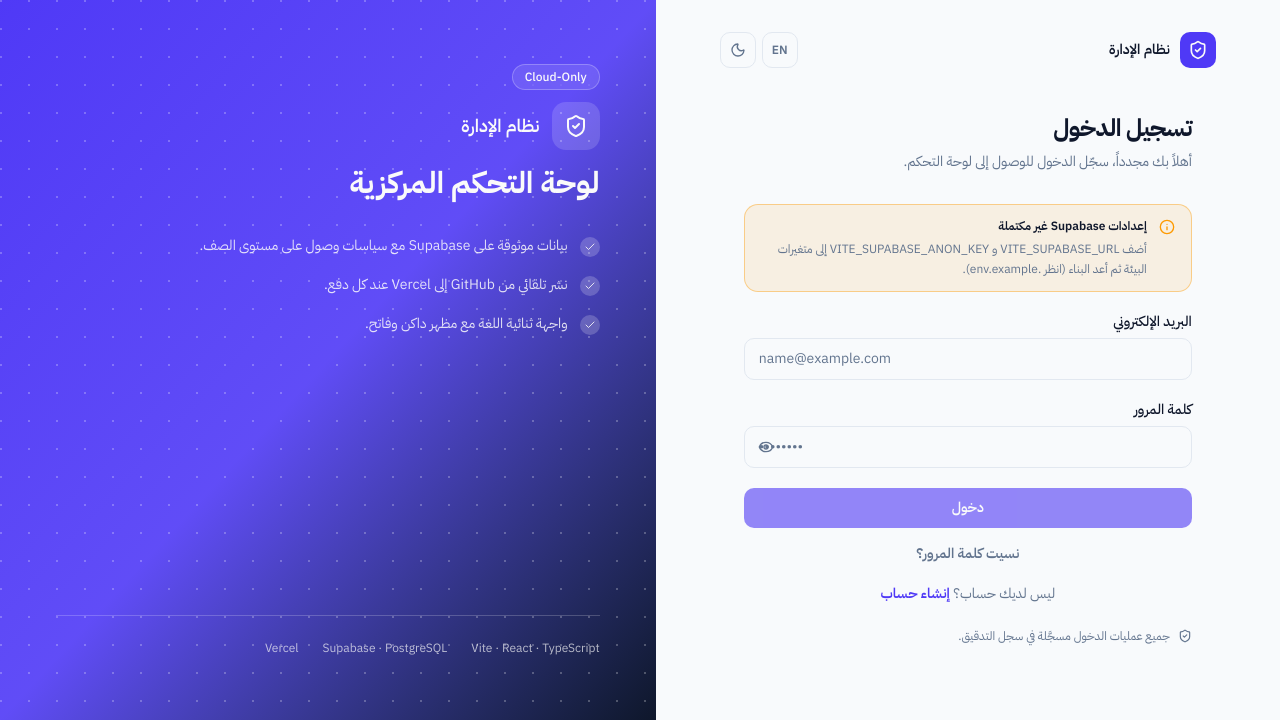
Test: Login — forgot password (manual approval request) › validates the address locally before touching Supabase
Click the button "نسيت كلمة المرور؟". click: (968, 554)
box: [916, 544, 1019, 564]
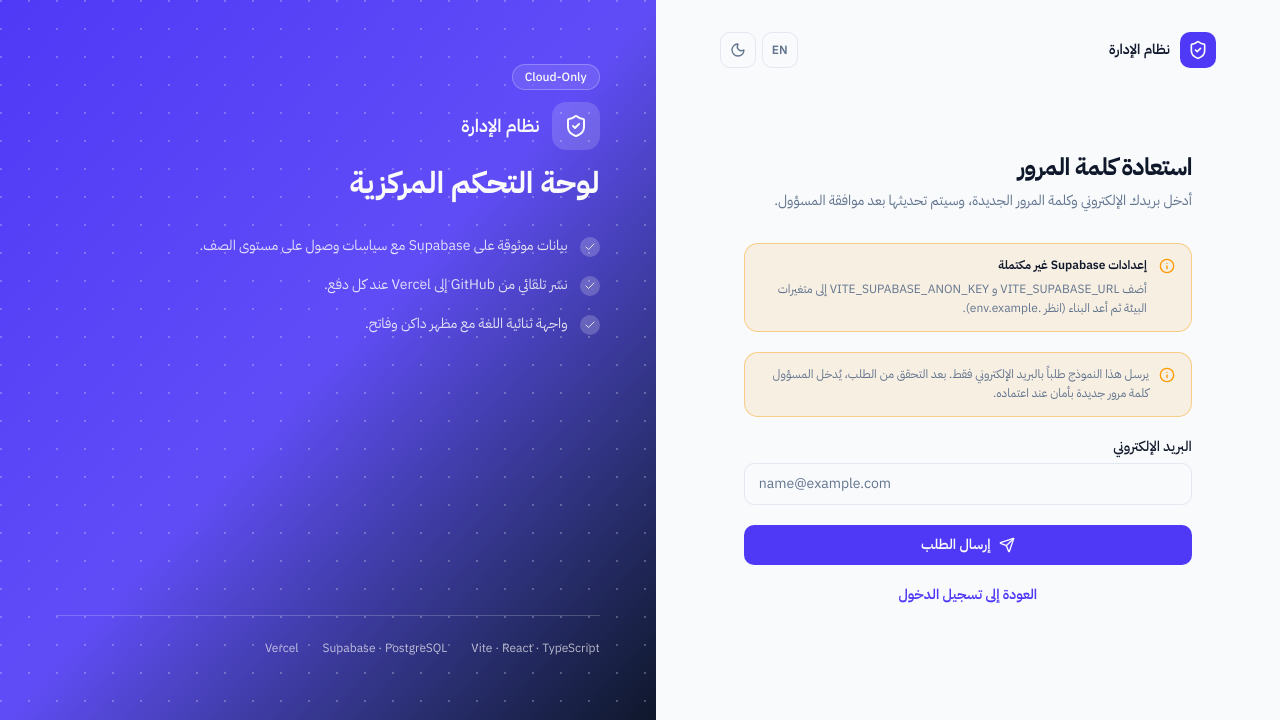
Click the button "إرسال الطلب". click: (968, 545)
box: [744, 525, 1192, 565]
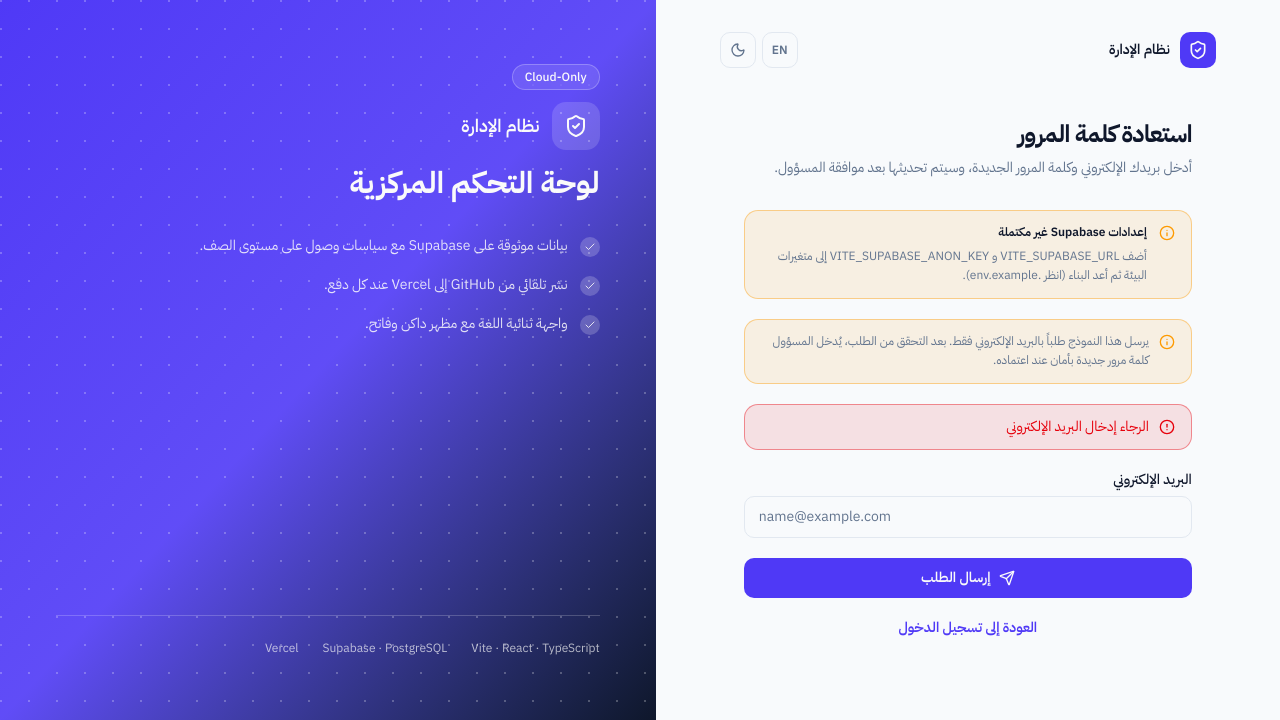
Now the message "الرجاء إدخال البريد الإلكتروني" is shown, box [744, 404, 1192, 450]
Type "not-an-email" into the field labelled "البريد الإلكتروني". click: (968, 517)
box: [744, 496, 1192, 538]
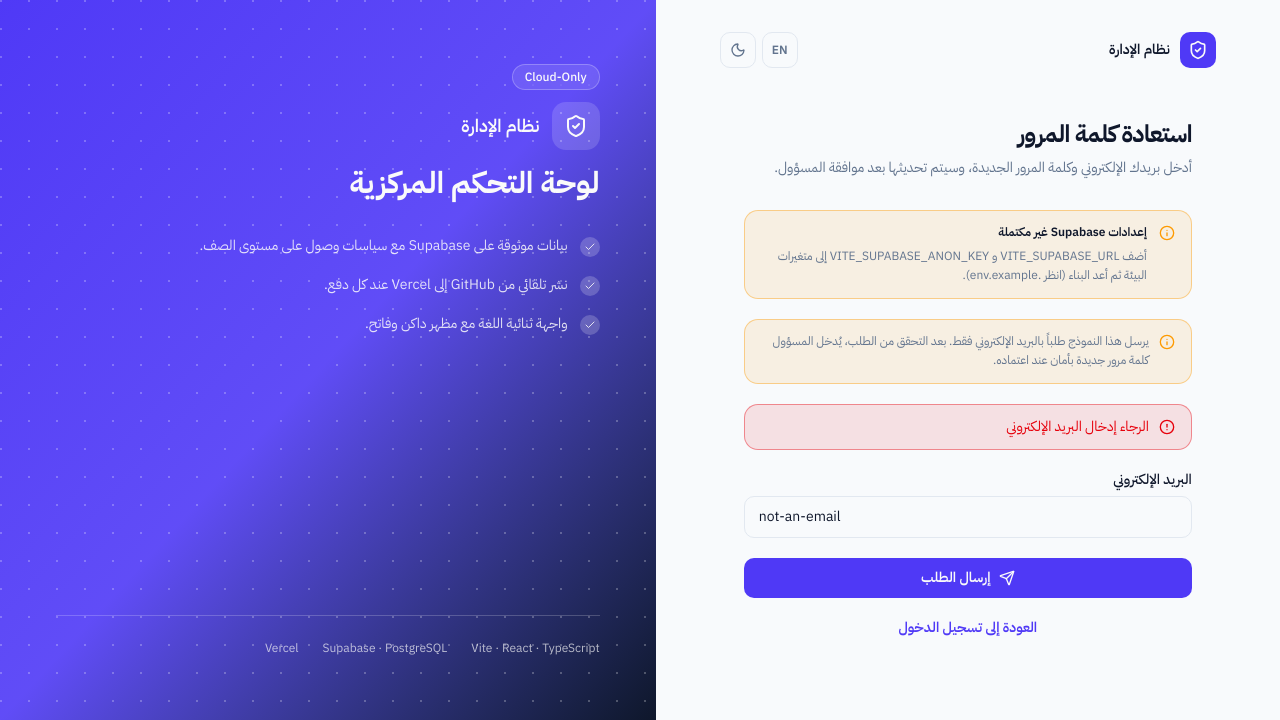
Click the button "إرسال الطلب". click: (968, 578)
box: [744, 558, 1192, 598]
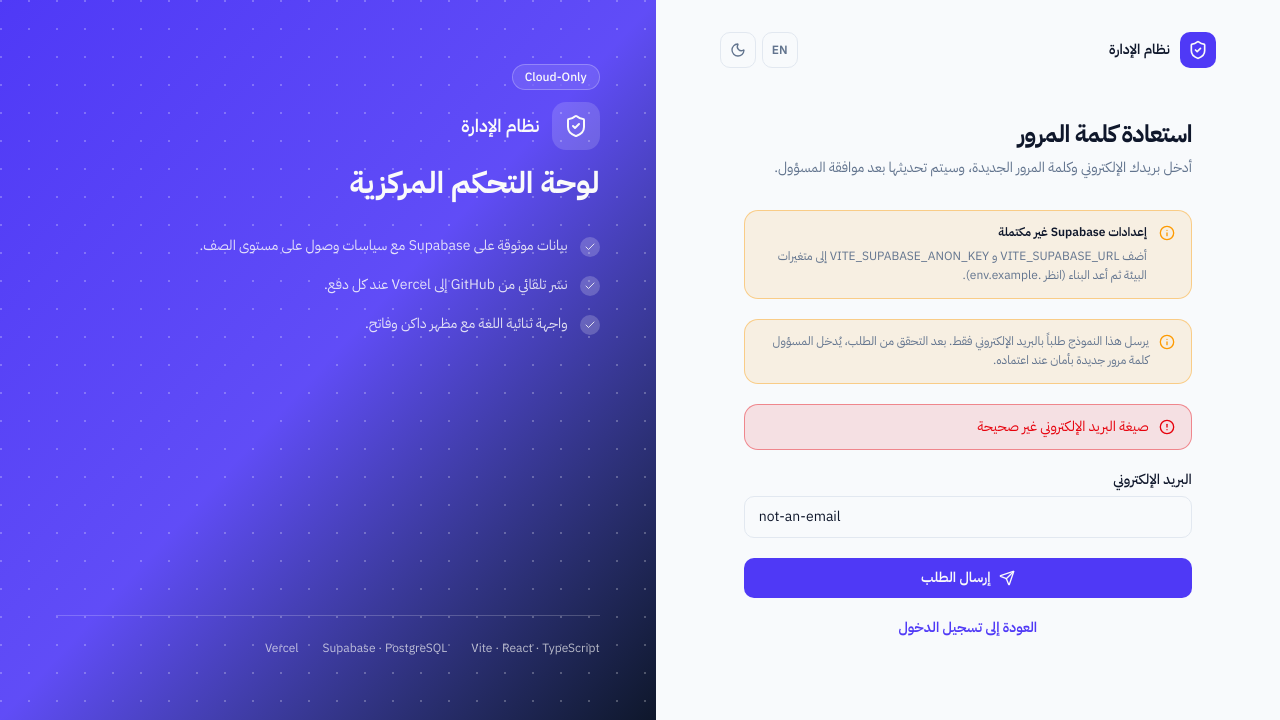
Now the message "صيغة البريد الإلكتروني غير صحيحة" is shown, box [744, 404, 1192, 450]
